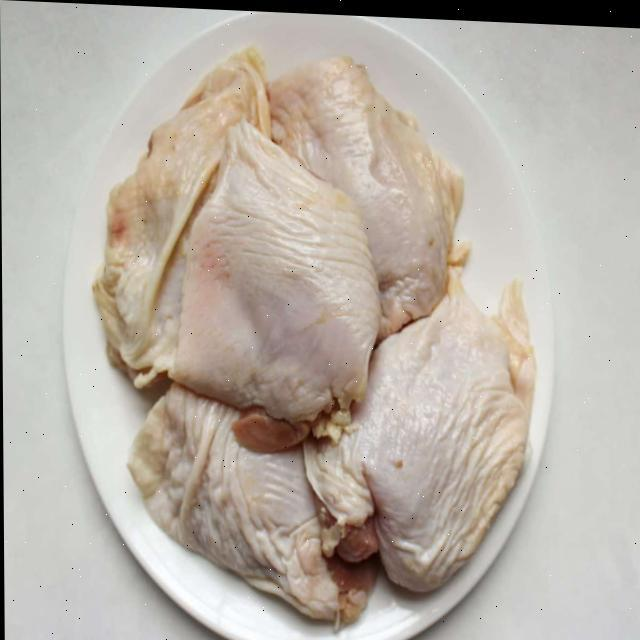thigh: (347, 299, 526, 606), (179, 143, 379, 414)
